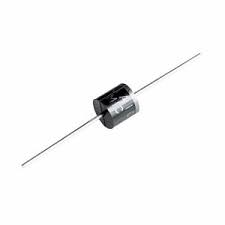diode: (74, 64, 158, 148)
